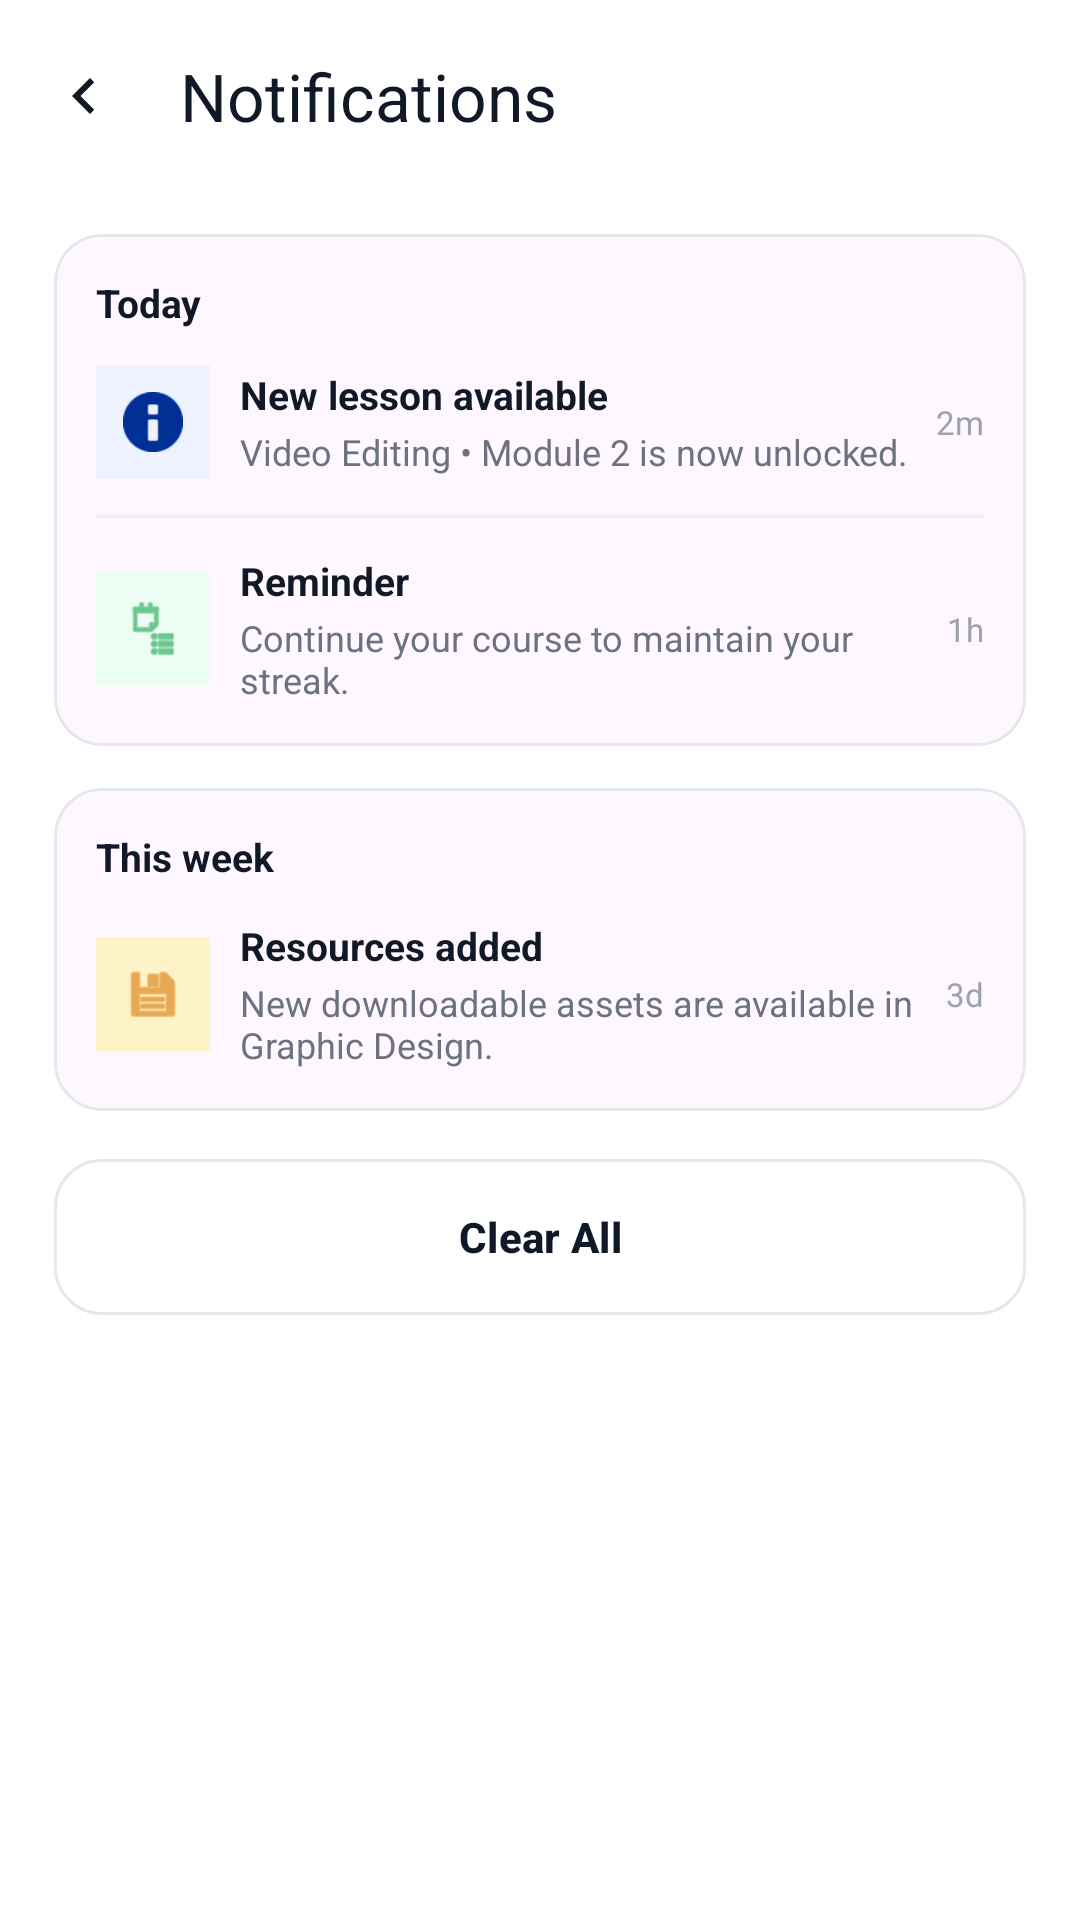

Named icons in this screenshot (1080px x 1920px) and their centers, point (x, y):
agenda: point (153, 629)
info: point (153, 422)
save: point (153, 994)
